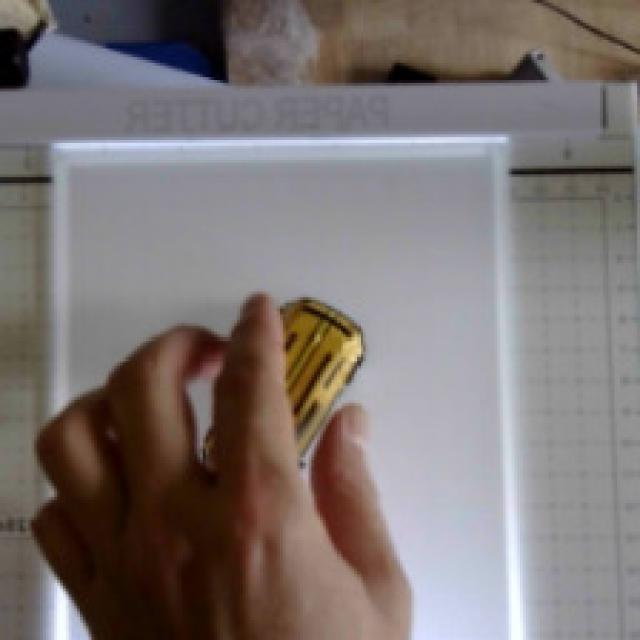Yellow Car: (125, 265, 427, 510)
